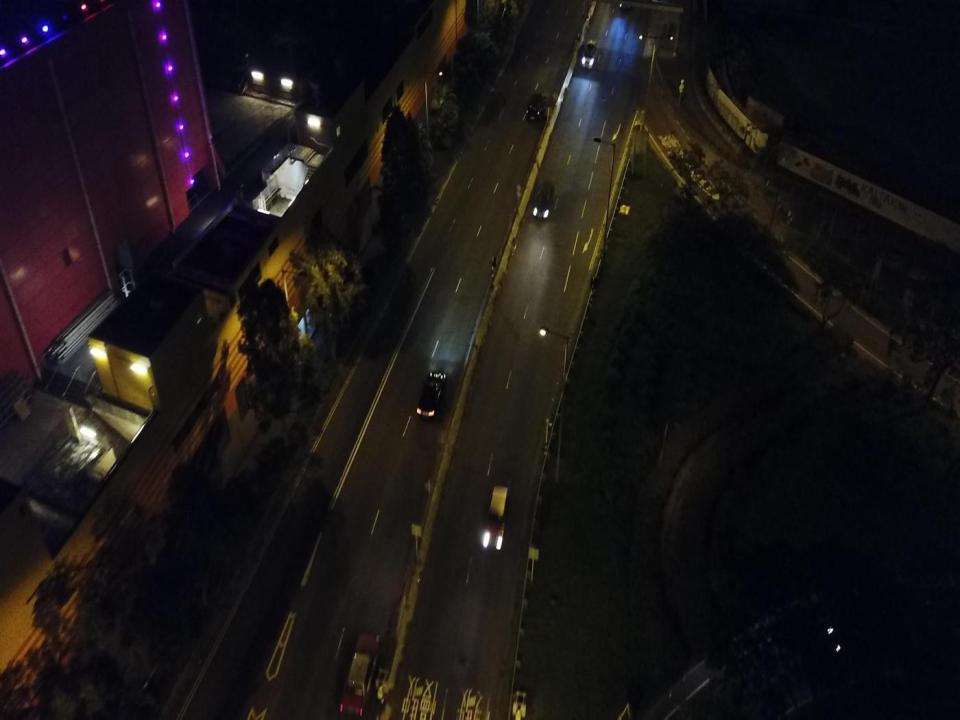car: (822, 600, 892, 657), (340, 627, 379, 715), (482, 477, 512, 553), (415, 369, 447, 418), (534, 178, 556, 220)
van: (527, 92, 545, 121), (582, 38, 597, 68)
